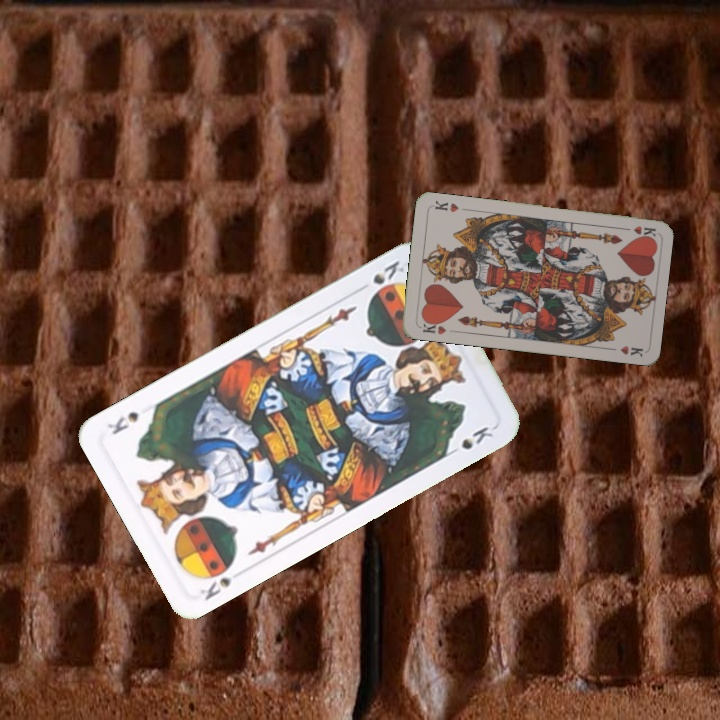HK: (617, 222, 658, 240), (416, 316, 448, 337)
SK: (365, 256, 408, 299), (196, 573, 235, 603)
